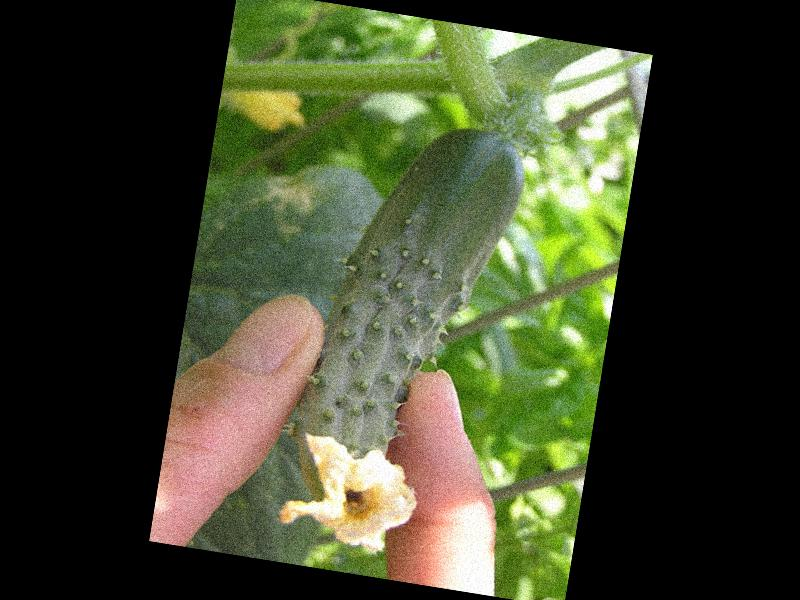Cucumber: (276, 106, 529, 563)
